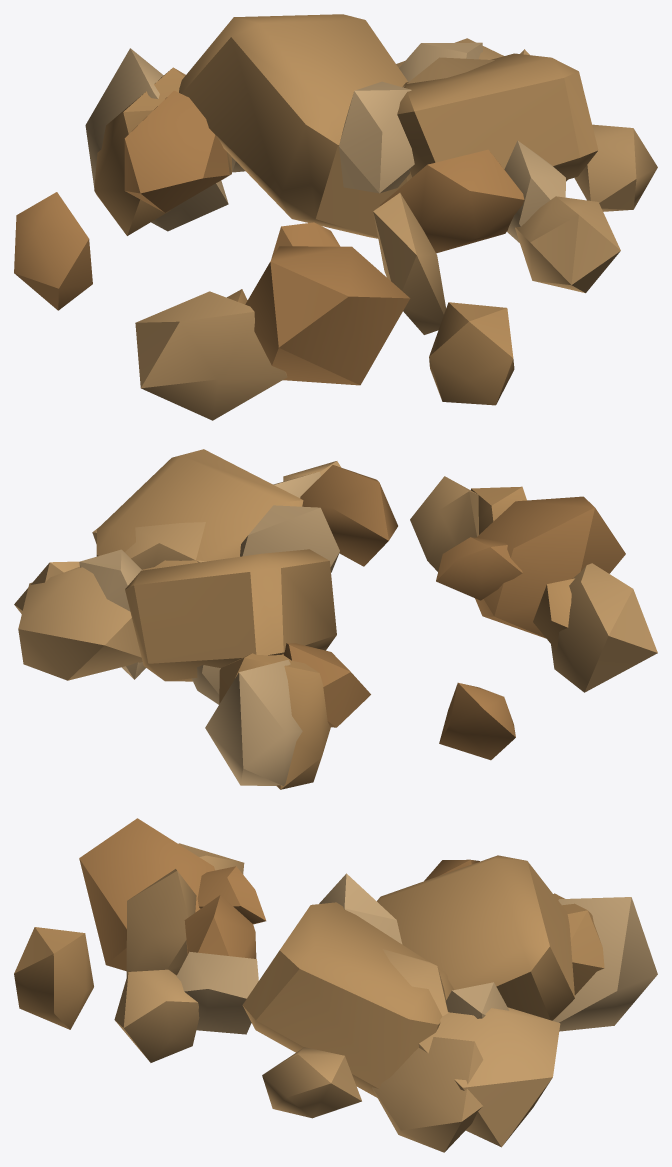
Rendered from topping-pacoca.glb.
3 renders of one model, top to bottom at view 1: azimuth 30°, elevation 25°; view 2: azimuth 150°, elevation 25°; view 3: azimuth 270°, elevation 25°, orthographic. The views are drawn at different scales.
Visible parts, largest first — view 1: topping-pacoca; view 2: topping-pacoca; view 3: topping-pacoca.
Part boxes in pixels (box(x1,y1,x2,y2)): topping-pacoca: box(14, 14, 657, 420); topping-pacoca: box(14, 449, 657, 789); topping-pacoca: box(14, 818, 657, 1152).
Size of the model in its own units: 0.0187 by 0.00653 by 0.0197.
